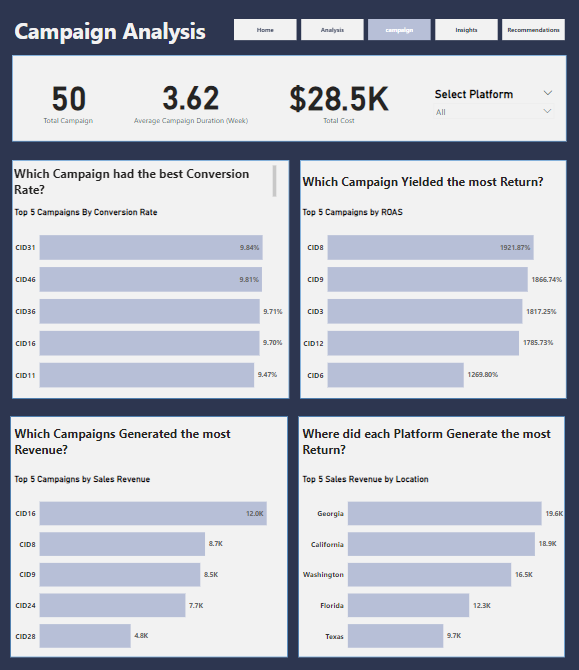

What the dashboard file says about the page in this screenshot:
{"tool":"powerbi","page":{"name":"campaign","canvas":[1300,1500],"ordinal":2},"visuals":[{"type":"textbox","box":[32,32,448,96],"z":0},{"type":"shape","box":[32,128,1232,192],"z":1000},{"type":"shape","box":[672,360,592,530],"z":2000},{"type":"shape","box":[671.3,930,592,535],"z":3000},{"type":"shape","box":[32,360,616,530],"z":4000},{"type":"shape","box":[31.3,930,616,535],"z":5000},{"type":"card","fields":{"Values":["CountNonNull(ad_campaign_data.CampaignID)"]},"box":[32,128,249,192],"z":6000},{"type":"card","fields":{"Values":["Avg(ad_campaign_data.AdDurationWeeks)"]},"box":[288,128,288,192],"z":7000},{"type":"card","fields":{"Values":["Sum(ad_campaign_data.Cost)"]},"box":[624,128,272,192],"z":8000},{"type":"barChart","title":"Top 5 Campaigns By Conversion Rate","fields":{"Y":["DaxMeasures.Conersion Rate"],"Category":["ad_campaign_data.CampaignID"]},"box":[32,464,608,432],"z":9000},{"type":"barChart","title":"Top 5 Campaigns by ROAS","fields":{"Category":["ad_campaign_data.CampaignID"],"Y":["DaxMeasures.Return on Ad Spend"]},"box":[672,464,592,432],"z":10000},{"type":"textbox","box":[672,384,576,48],"z":11000},{"type":"textbox","box":[32,368,592,80],"z":12000},{"type":"barChart","title":"Top 5 Campaigns by Sales Revenue","fields":{"Category":["ad_campaign_data.CampaignID"],"Y":["Sum(ad_campaign_data.ConversionValue)"]},"box":[32,1056,608,416],"z":13000},{"type":"textbox","box":[32,944,592,96],"z":14000},{"type":"barChart","title":"Top 5 Sales Revenue by Location","fields":{"Category":["ad_campaign_data.State"],"Y":["Sum(ad_campaign_data.ConversionValue)"]},"box":[672,1056,592,416],"z":15000},{"type":"textbox","box":[672,944,592,96],"z":16000},{"type":"pageNavigator","box":[528,48,736,48],"z":17000},{"type":"slicer","fields":{"Values":["ad_campaign_data.Platform"]},"box":[960,192,288,80],"z":18000}]}

Visuals, with their boxes in screenshot pixels (x1, y1, x2, y2), scaled from the page's 1300x1500 canvas onto the 579x670 screenshot:
textbox: {"x1": 14, "y1": 14, "x2": 214, "y2": 57}
shape: {"x1": 14, "y1": 57, "x2": 563, "y2": 143}
shape: {"x1": 299, "y1": 161, "x2": 563, "y2": 398}
shape: {"x1": 299, "y1": 415, "x2": 563, "y2": 654}
shape: {"x1": 14, "y1": 161, "x2": 289, "y2": 398}
shape: {"x1": 14, "y1": 415, "x2": 288, "y2": 654}
card - CountNonNull(ad_campaign_data.CampaignID): {"x1": 14, "y1": 57, "x2": 125, "y2": 143}
card - Avg(ad_campaign_data.AdDurationWeeks): {"x1": 128, "y1": 57, "x2": 257, "y2": 143}
card - Sum(ad_campaign_data.Cost): {"x1": 278, "y1": 57, "x2": 399, "y2": 143}
"Top 5 Campaigns By Conversion Rate" barChart: {"x1": 14, "y1": 207, "x2": 285, "y2": 400}
"Top 5 Campaigns by ROAS" barChart: {"x1": 299, "y1": 207, "x2": 563, "y2": 400}
textbox: {"x1": 299, "y1": 172, "x2": 556, "y2": 193}
textbox: {"x1": 14, "y1": 164, "x2": 278, "y2": 200}
"Top 5 Campaigns by Sales Revenue" barChart: {"x1": 14, "y1": 472, "x2": 285, "y2": 657}
textbox: {"x1": 14, "y1": 422, "x2": 278, "y2": 465}
"Top 5 Sales Revenue by Location" barChart: {"x1": 299, "y1": 472, "x2": 563, "y2": 657}
textbox: {"x1": 299, "y1": 422, "x2": 563, "y2": 465}
pageNavigator: {"x1": 235, "y1": 21, "x2": 563, "y2": 43}
slicer - ad_campaign_data.Platform: {"x1": 428, "y1": 86, "x2": 556, "y2": 121}
